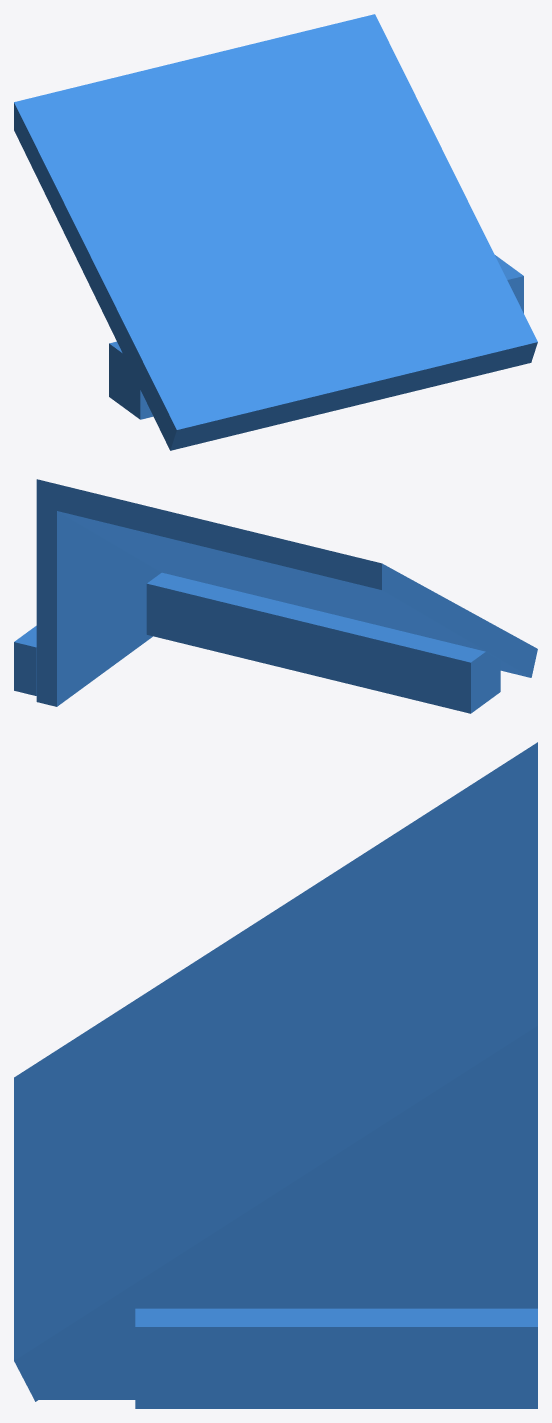
The model's file is Collision_Roof_Wooden_2x1_R.fbx.
3 views of the same model, one above another, from view 1: azimuth 30°, elevation 25°; view 2: azimuth 150°, elevation 25°; view 3: azimuth 270°, elevation 25° (orthographic). The views are drawn at different scales.
Visible parts, largest first — view 1: UCX_Roof_Wooden_2x1_R_01; view 2: UCX_Roof_Wooden_2x1_R_01; view 3: UCX_Roof_Wooden_2x1_R_01.
Boxes of the visible parts, <box> form: UCX_Roof_Wooden_2x1_R_01: <box>14,14,537,450</box>; UCX_Roof_Wooden_2x1_R_01: <box>14,479,537,713</box>; UCX_Roof_Wooden_2x1_R_01: <box>14,742,537,1408</box>.
Bounding box in the file's own units: 213 × 124 × 156.
